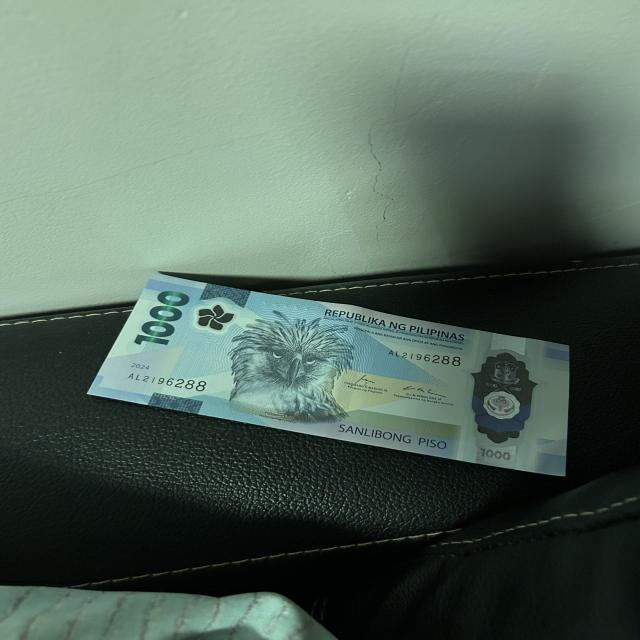clear_window: (470, 336, 534, 457)
eagle: (233, 317, 348, 423)
sampaguita: (191, 302, 234, 332)
